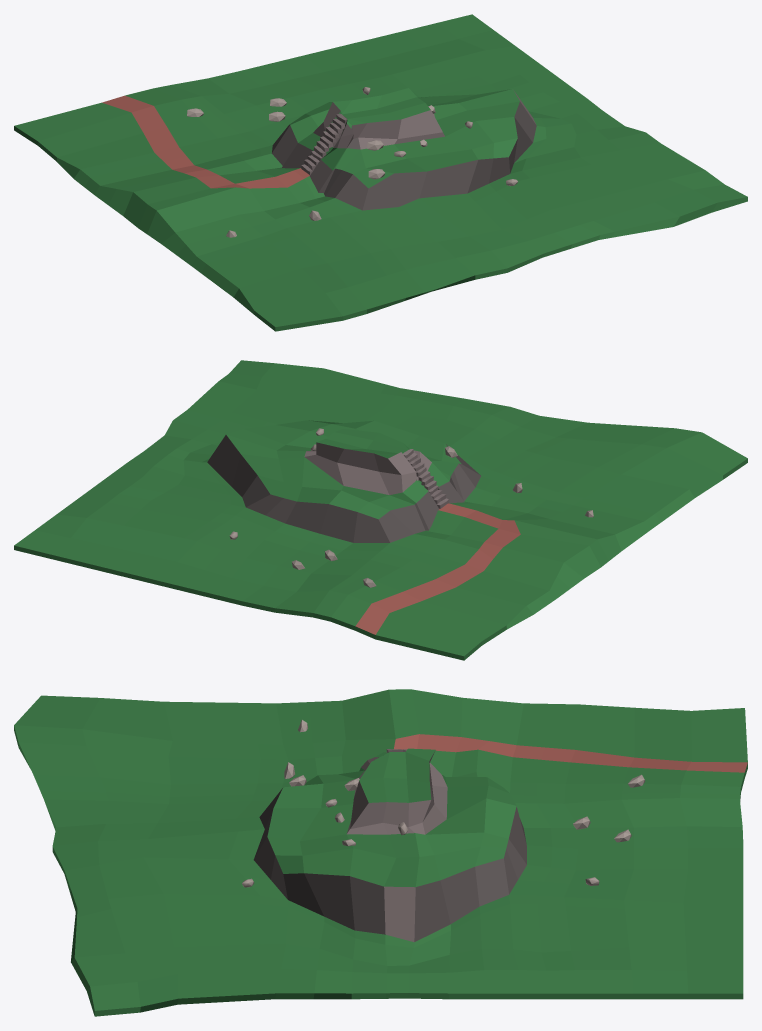
File: Ground_GreekOLD.fbx
3 views of the same model, one above another, from view 1: azimuth 30°, elevation 25°; view 2: azimuth 150°, elevation 25°; view 3: azimuth 270°, elevation 25° (orthographic). The views are drawn at different scales.
Parts seen in each view (by area): view 1: Ground_Greek; view 2: Ground_Greek; view 3: Ground_Greek.
Part boxes in pixels (x1,y1,x2,y2): Ground_Greek: (14,14,747,331); Ground_Greek: (14,360,747,660); Ground_Greek: (14,689,747,1016).
Bounding box in the file's own units: 2127 × 2139 × 292.
